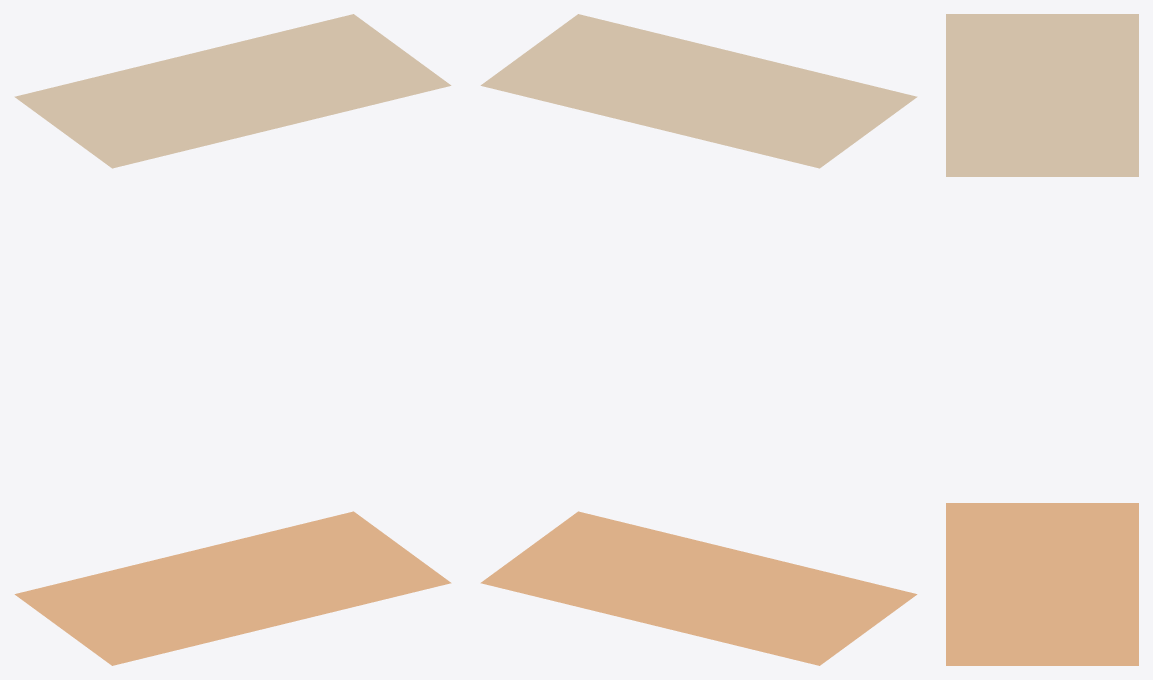
File: SM_Couloir_1x2.fbx
3 views of the same model, side by side, from view 1: azimuth 30°, elevation 25°; view 2: azimuth 150°, elevation 25°; view 3: azimuth 270°, elevation 25° (orthographic).
Visible parts, largest first — view 1: SM_Couloir_1x2; view 2: SM_Couloir_1x2; view 3: SM_Couloir_1x2.
Part boxes in pixels (bbox=[...]): SM_Couloir_1x2: bbox=[14, 14, 451, 665]; SM_Couloir_1x2: bbox=[480, 14, 917, 665]; SM_Couloir_1x2: bbox=[946, 14, 1138, 665].
Size of the model in its own units: 2 by 2.8 by 1.
